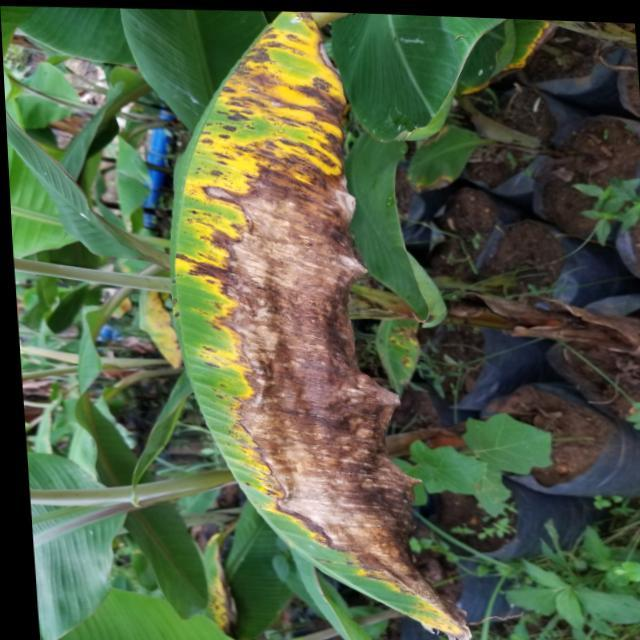Early_rust: (170, 9, 481, 640), (92, 253, 190, 372)
